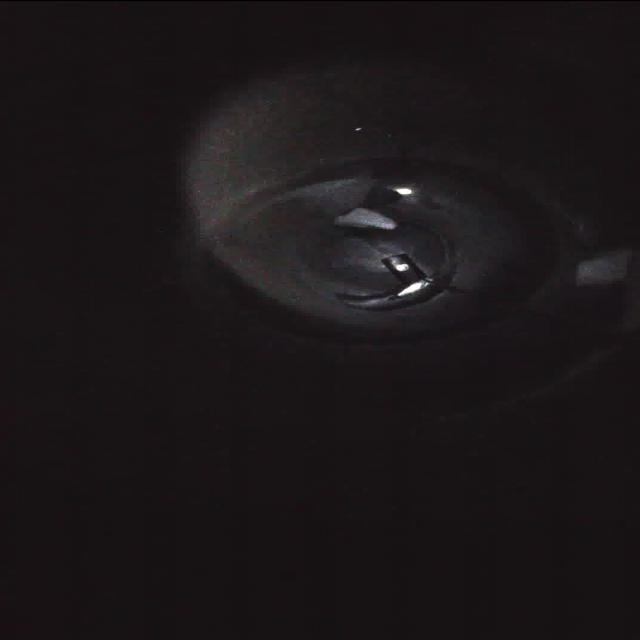impurity: (332, 204, 399, 232)
